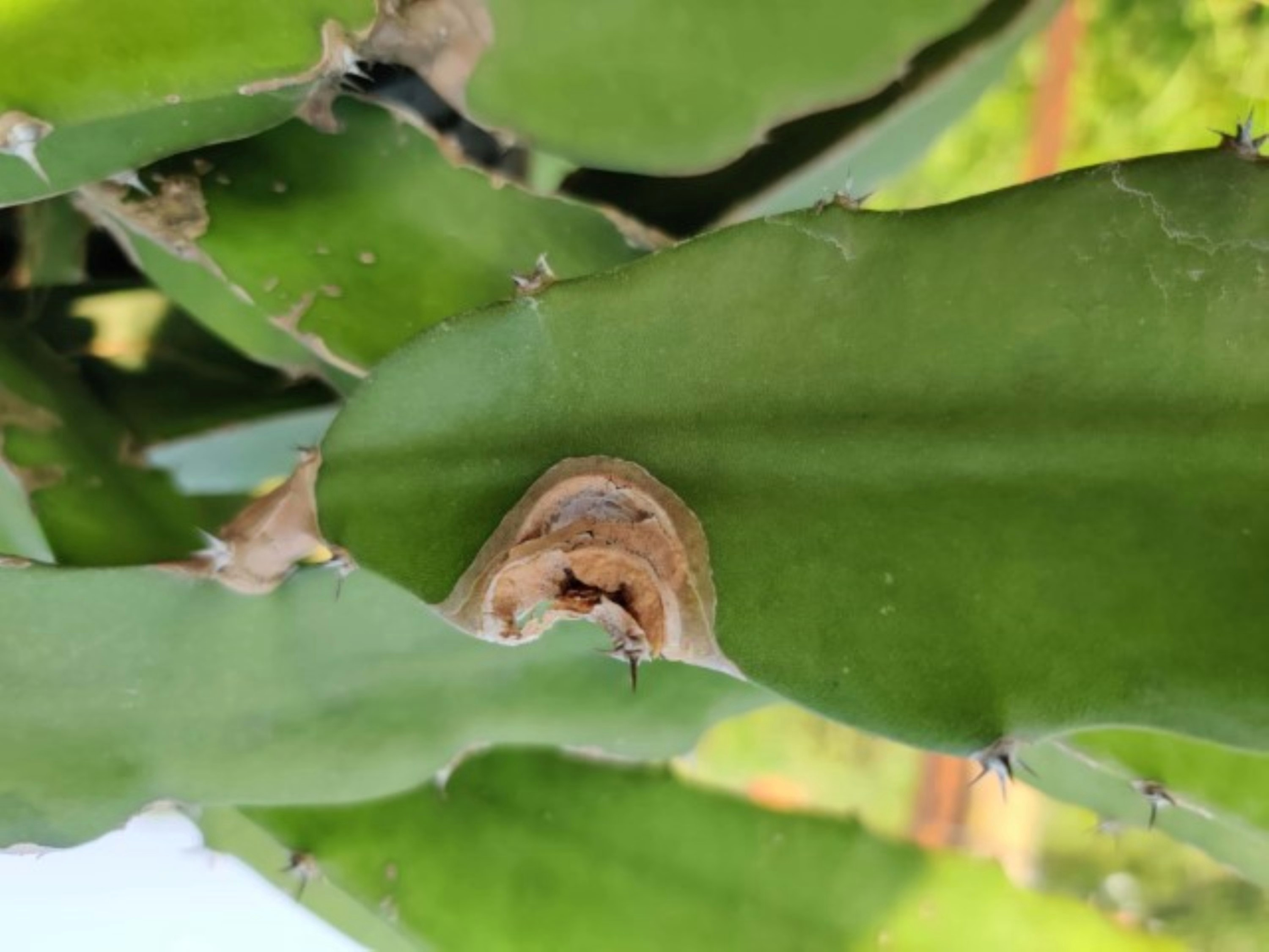stemcanker: (351, 336, 833, 740)
